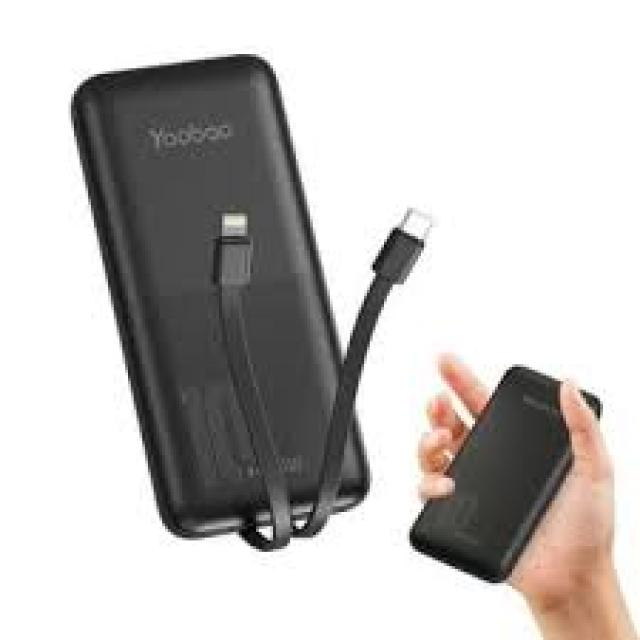power_bank: (69, 44, 372, 548)
